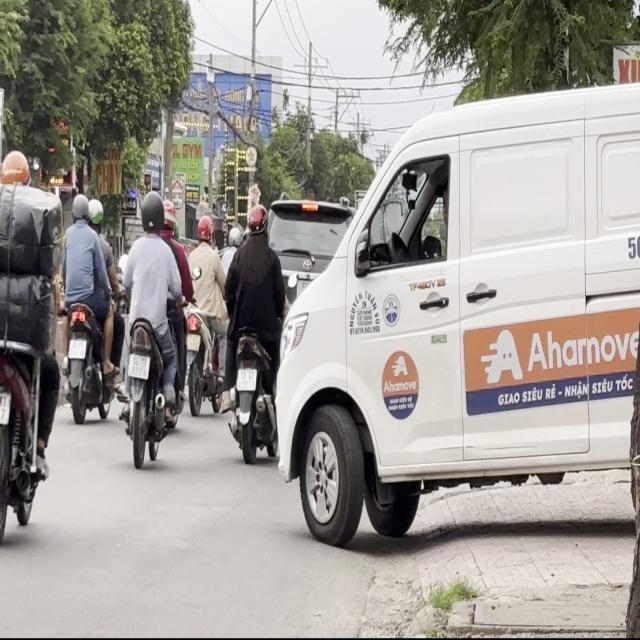helmet: (139, 189, 164, 233), (0, 150, 30, 186), (246, 203, 267, 238), (162, 197, 177, 235), (70, 193, 89, 222), (87, 196, 103, 228), (196, 213, 213, 243)
licenseplate: (0, 141, 60, 545), (117, 182, 188, 466), (223, 201, 287, 462), (55, 191, 119, 424), (619, 173, 639, 638), (184, 214, 226, 415)
nohelmet: (128, 353, 150, 379), (237, 369, 256, 390), (68, 339, 86, 358), (185, 332, 200, 350)
